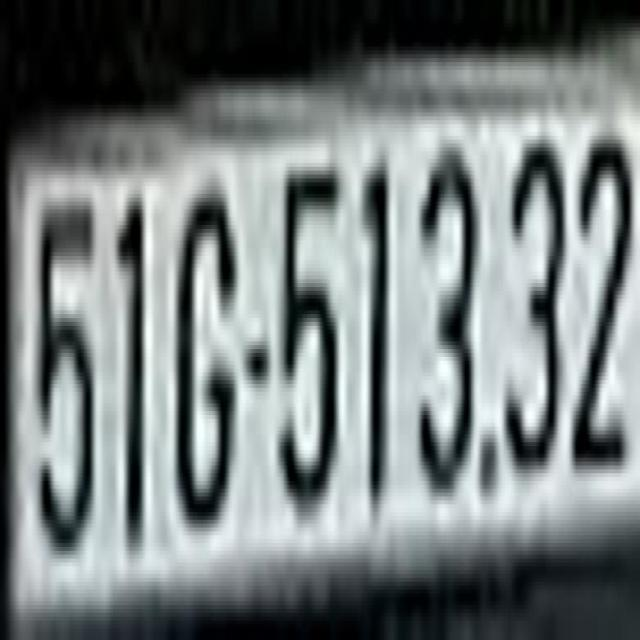1: (358, 144, 391, 492), (116, 183, 144, 532)
2: (572, 124, 630, 473)
3: (415, 140, 478, 512), (510, 124, 566, 500)
5: (280, 159, 341, 528), (40, 190, 94, 547)
G: (172, 178, 235, 536)
